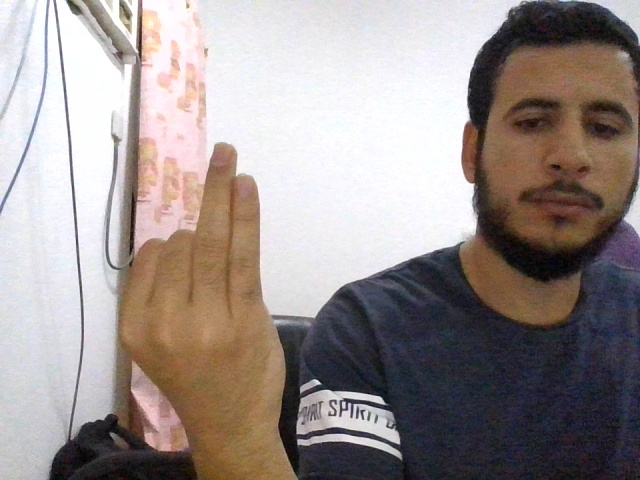Two: (118, 142, 286, 426)
